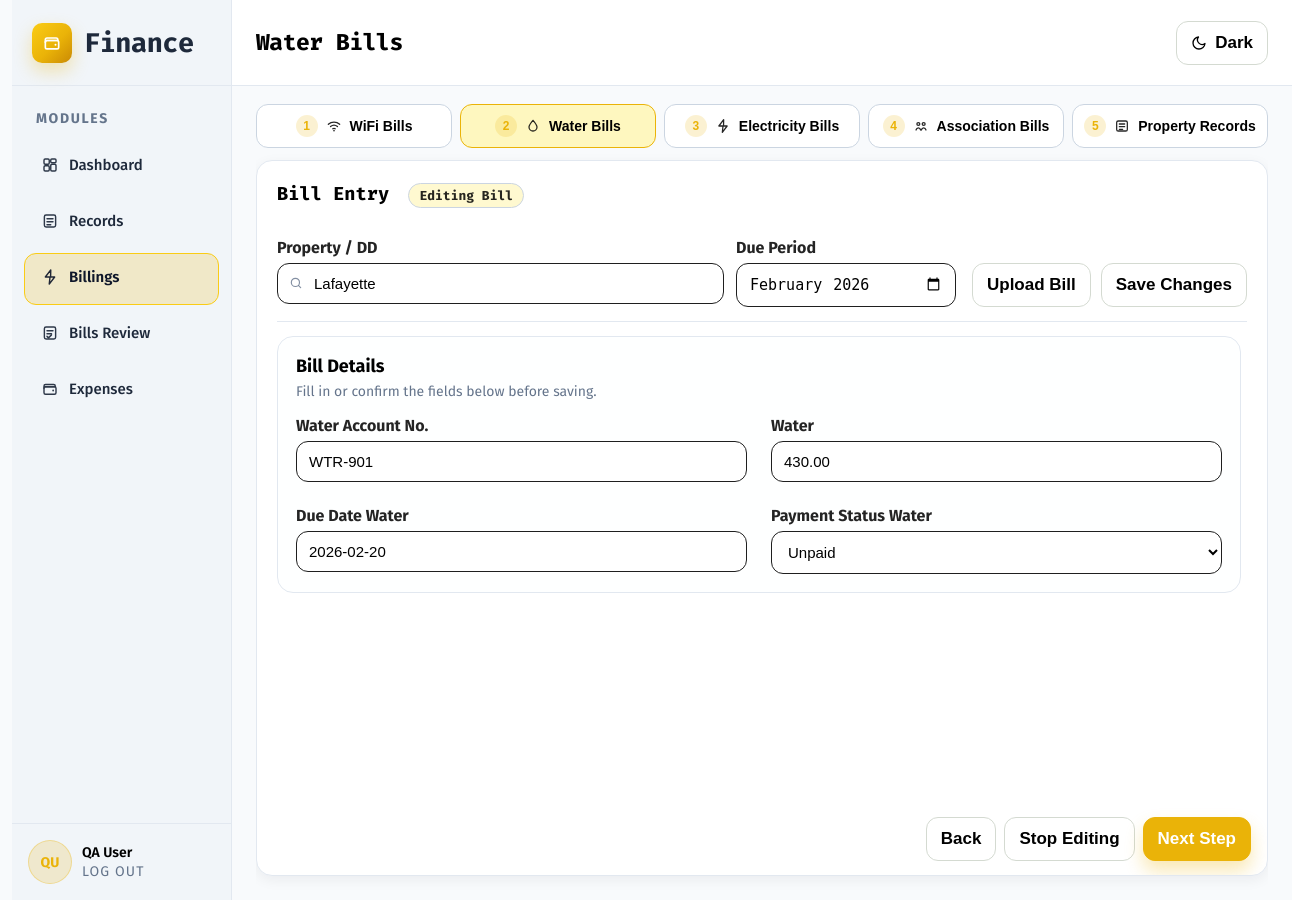
Test: Billing flow integration coverage › keeps edit mode and module data when navigating Next between bill tabs
expect the field labelled "Water Account No." holds "WTR-901": met, box 296,440 -> 747,482
Click the button "Next Step". click: (1197, 839)
box: 1143,817 -> 1251,861
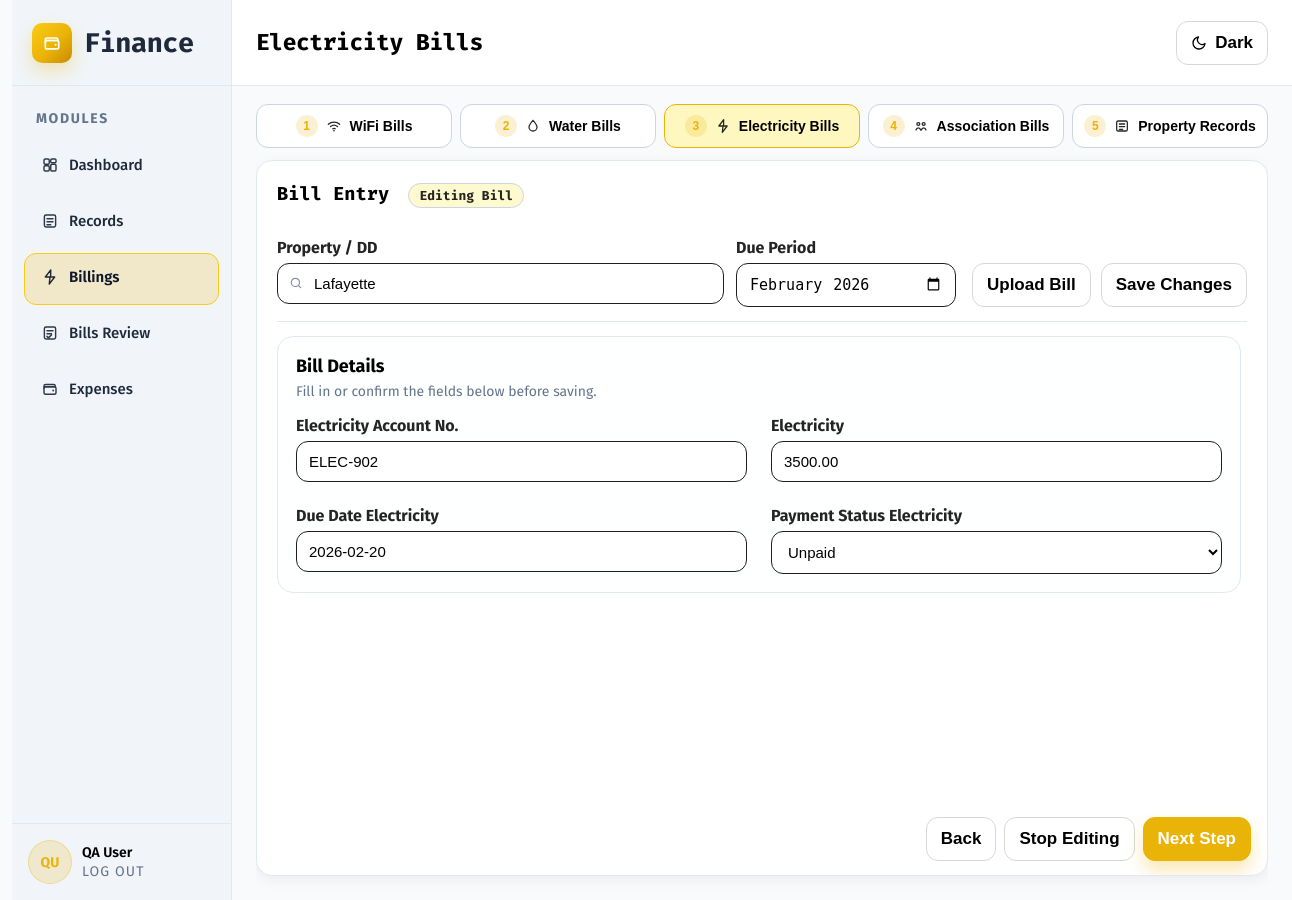
expect the field labelled "Electricity Account No." holds "ELEC-902": met, box 296,440 -> 747,482
expect the field labelled "Electricity" holds "3500.00": met, box 771,440 -> 1222,482
